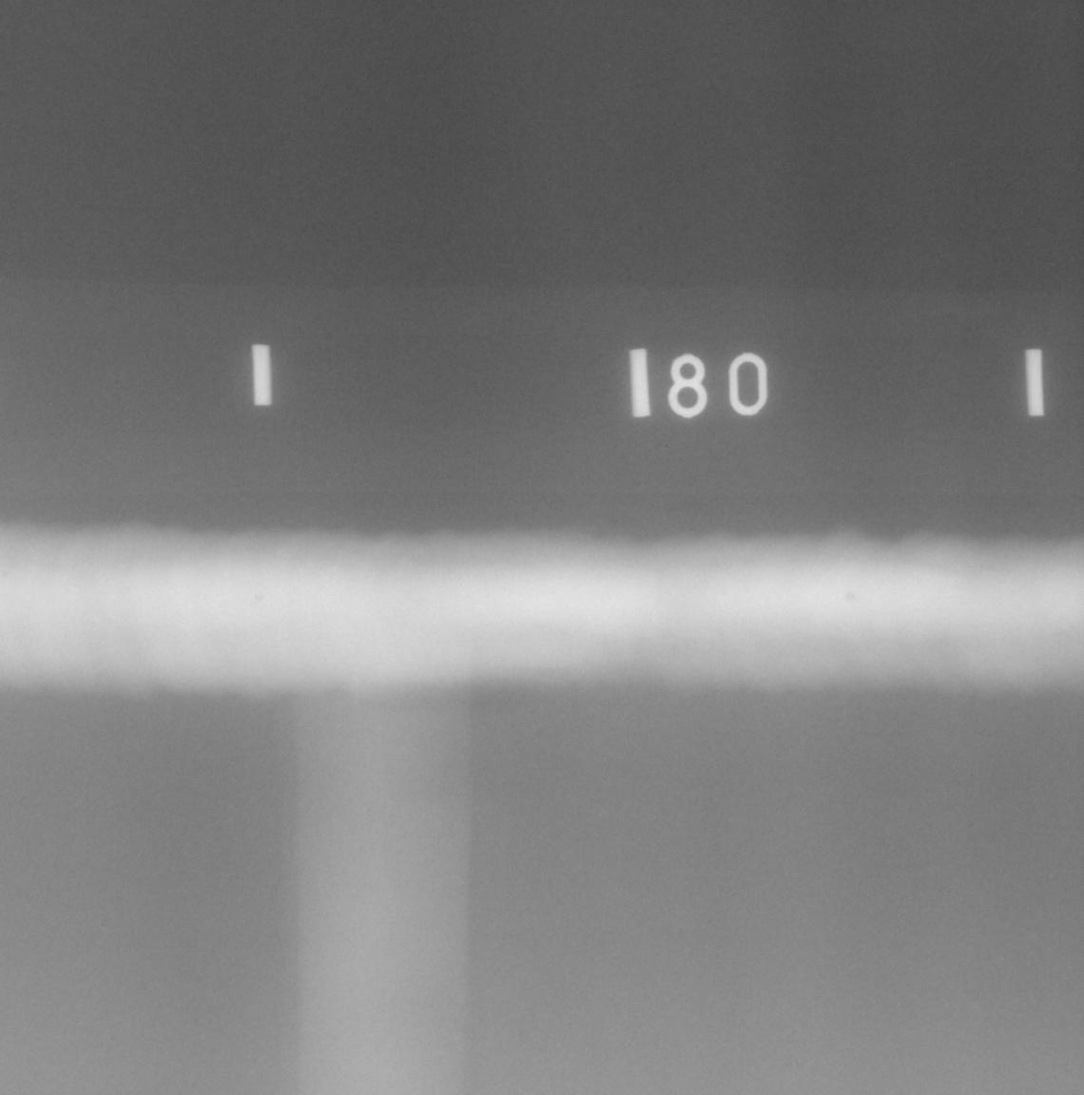Pore/Porosity: (847, 593, 857, 601), (255, 594, 264, 602)
